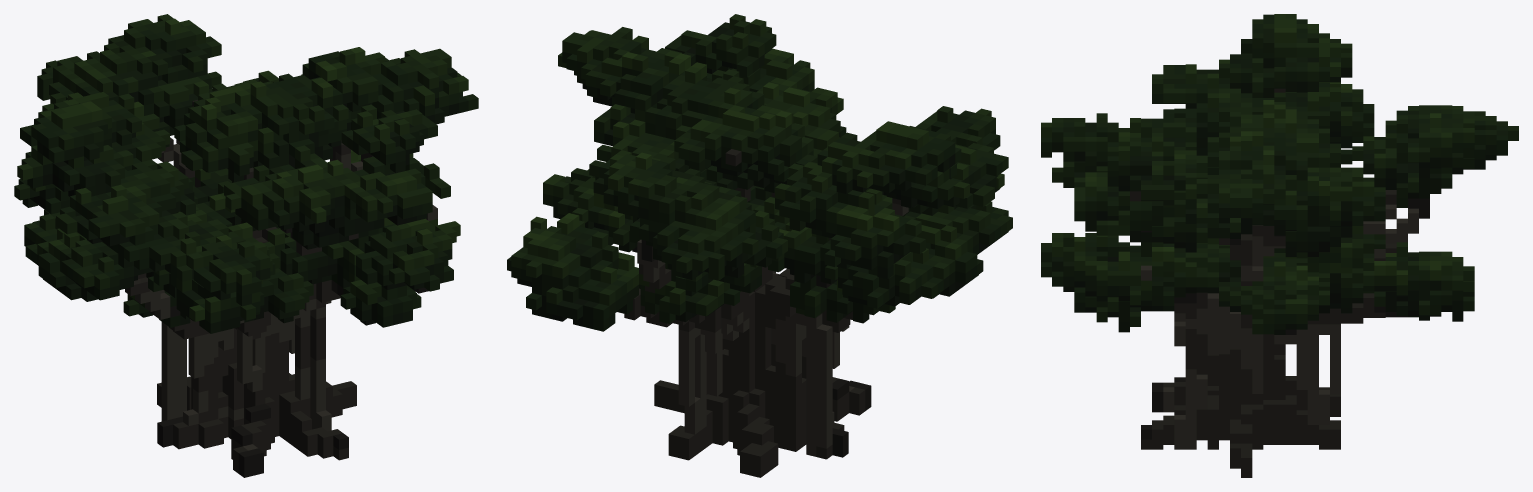
The model's file is arvore_copa_larga_hero_01_LOD4.fbx.
The picture shows the model from 3 angles, left to right: view 1: azimuth 30°, elevation 25°; view 2: azimuth 150°, elevation 25°; view 3: azimuth 270°, elevation 25°; orthographic projection. The views are drawn at different scales.
Parts seen in each view (by area): view 1: arvore_copa_larga_hero_01_LOD4; view 2: arvore_copa_larga_hero_01_LOD4; view 3: arvore_copa_larga_hero_01_LOD4.
Part boxes in pixels (box(x1,y1,x2,y2)): arvore_copa_larga_hero_01_LOD4: box(14, 14, 478, 477); arvore_copa_larga_hero_01_LOD4: box(507, 14, 1012, 477); arvore_copa_larga_hero_01_LOD4: box(1041, 14, 1518, 477).
Bounding box in the file's own units: 1575 × 1238 × 1613.
